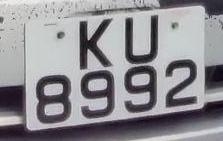2: (163, 55, 202, 110)
8: (28, 67, 78, 130)
9: (72, 63, 124, 124), (118, 60, 166, 120)
K: (73, 16, 123, 74)
U: (120, 8, 171, 68)
